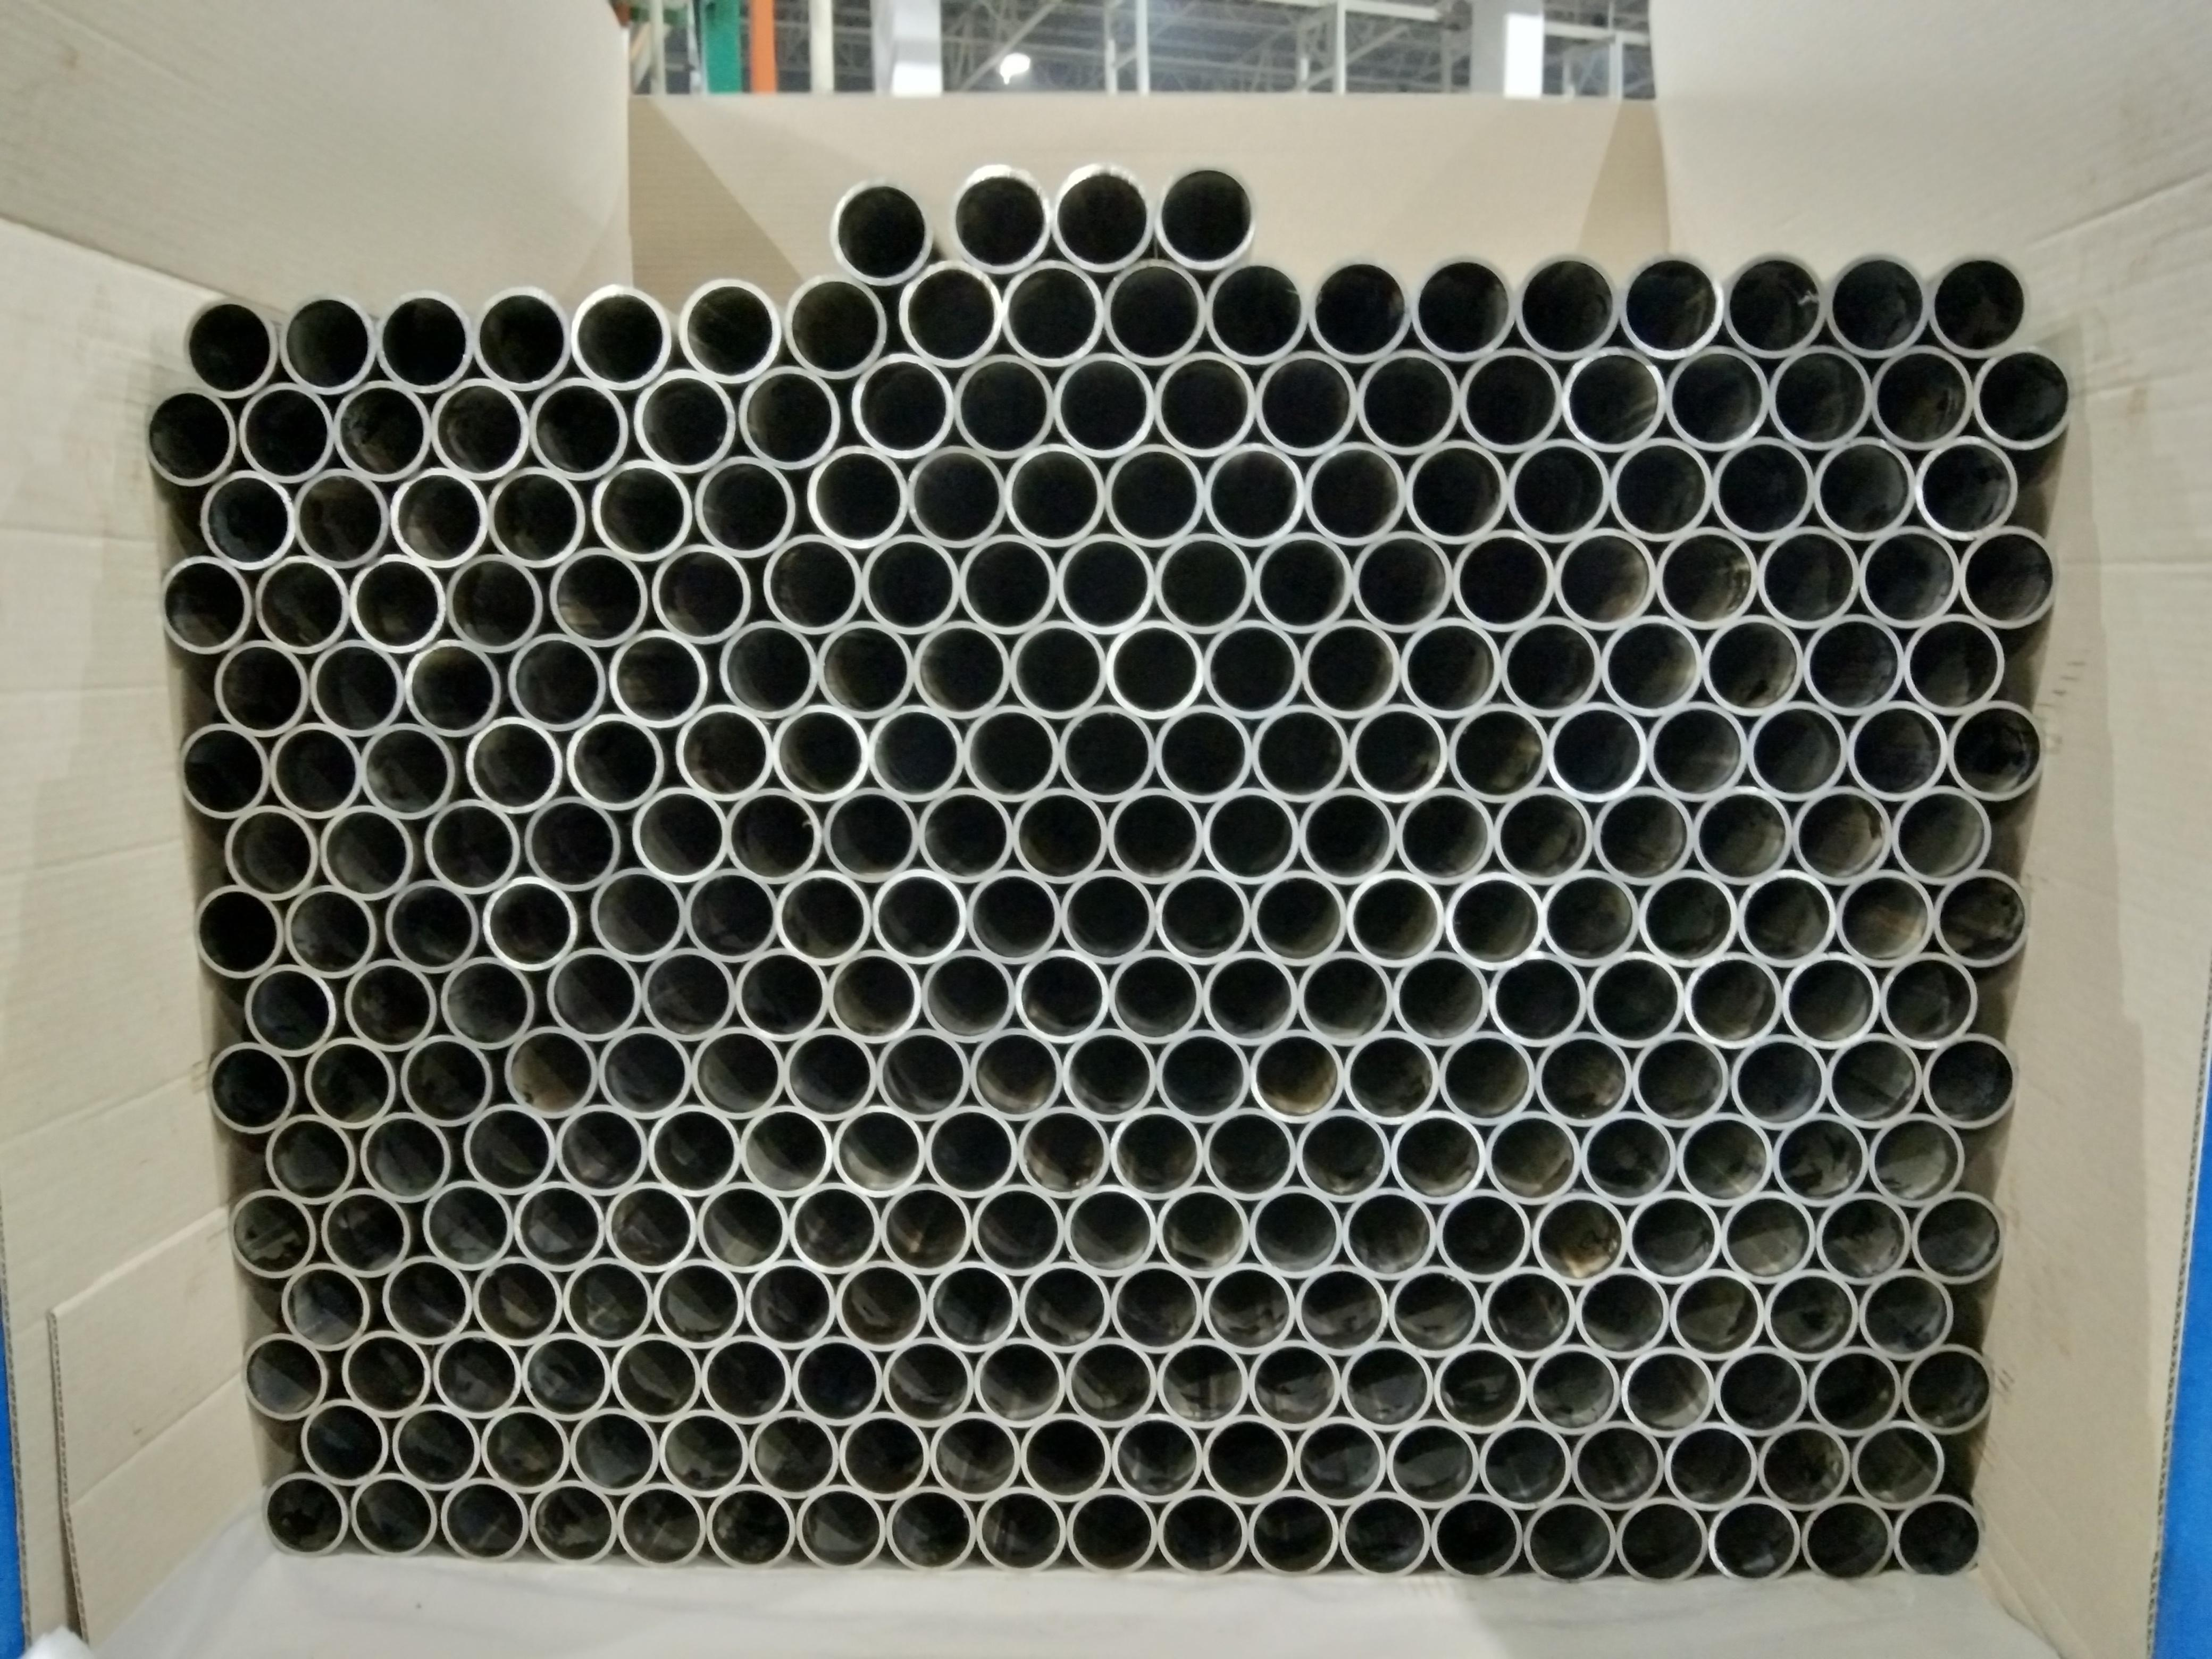pipe: (780, 270, 892, 376), (1721, 246, 1825, 359), (831, 174, 939, 282), (1925, 247, 2033, 355), (1824, 247, 1930, 357), (1514, 249, 1620, 359), (1153, 159, 1258, 270), (946, 166, 1052, 274), (1355, 347, 1461, 455), (1050, 162, 1155, 272), (1618, 247, 1723, 357), (1411, 251, 1515, 361), (1562, 343, 1667, 453), (1306, 254, 1413, 361), (1204, 254, 1308, 362), (895, 261, 1003, 366), (1869, 342, 1973, 450), (1458, 345, 1562, 453), (1254, 347, 1359, 455), (1103, 254, 1205, 364), (1001, 256, 1104, 366), (1857, 523, 1961, 629), (1655, 525, 1759, 631), (678, 277, 784, 382), (850, 354, 956, 458), (1811, 434, 1916, 540), (1665, 343, 1768, 451), (953, 350, 1055, 458), (737, 364, 845, 467), (1350, 528, 1454, 633), (1972, 343, 2076, 448), (634, 368, 738, 472), (1710, 436, 1815, 540), (1608, 436, 1712, 540), (805, 444, 909, 549), (1554, 525, 1656, 631), (1453, 526, 1555, 633), (1507, 436, 1609, 542), (1406, 437, 1508, 544), (1303, 439, 1406, 545), (1153, 349, 1254, 457), (1916, 432, 2017, 540), (691, 455, 799, 556), (1757, 525, 1860, 629), (1500, 613, 1602, 718), (571, 284, 676, 387), (528, 375, 631, 479), (484, 464, 589, 566), (472, 284, 573, 390), (1768, 343, 1869, 450), (1054, 350, 1155, 457), (1204, 441, 1305, 547), (1702, 612, 1804, 714), (1601, 613, 1703, 716), (1646, 699, 1749, 802), (590, 458, 693, 561), (1153, 530, 1254, 634), (547, 545, 651, 647), (1902, 612, 2003, 716), (1400, 615, 1501, 720), (1104, 443, 1205, 547), (651, 544, 758, 643), (1005, 441, 1104, 547), (907, 443, 1007, 549), (1252, 530, 1353, 633), (860, 532, 961, 634), (1803, 612, 1904, 714), (1846, 699, 1947, 802), (1747, 699, 1848, 802), (376, 288, 475, 392), (432, 375, 529, 481), (336, 375, 432, 483), (444, 551, 545, 652), (718, 619, 819, 720), (1547, 701, 1648, 802), (1447, 701, 1548, 802), (1592, 784, 1693, 885), (1691, 784, 1792, 885), (1393, 784, 1494, 885), (1735, 866, 1836, 967), (1055, 532, 1155, 634), (761, 535, 864, 634), (1301, 615, 1400, 718), (1204, 617, 1303, 720), (815, 617, 914, 720), (1104, 617, 1204, 720), (402, 636, 505, 735), (1946, 699, 2045, 802), (179, 293, 279, 396), (237, 380, 336, 483), (390, 464, 488, 568), (606, 629, 712, 725), (1008, 619, 1108, 720), (1348, 701, 1447, 802), (1251, 702, 1350, 803), (465, 714, 566, 814), (359, 720, 460, 819), (1494, 784, 1594, 885), (1791, 784, 1890, 885), (1298, 784, 1397, 885), (1959, 525, 2057, 627), (960, 532, 1057, 634), (348, 551, 446, 653), (253, 552, 350, 655), (913, 617, 1010, 720), (507, 633, 610, 730), (772, 701, 869, 803), (585, 866, 688, 964), (564, 713, 669, 809), (294, 465, 390, 570), (1890, 784, 1989, 884), (820, 784, 920, 884), (1639, 868, 1738, 967), (1782, 950, 1881, 1049), (1155, 702, 1252, 803), (674, 704, 775, 802), (1059, 702, 1157, 803), (421, 798, 523, 896), (1444, 870, 1545, 967), (279, 291, 376, 392), (523, 795, 625, 890), (1012, 784, 1109, 884), (916, 784, 1014, 884), (1202, 786, 1299, 885), (1249, 868, 1348, 965), (1541, 868, 1639, 967), (1836, 868, 1933, 967), (1346, 868, 1444, 967), (1585, 950, 1684, 1047), (1684, 950, 1782, 1049), (1437, 1028, 1536, 1126), (1630, 1030, 1730, 1127), (1728, 1032, 1827, 1129), (214, 638, 310, 739), (867, 702, 963, 803), (629, 786, 730, 882), (143, 383, 239, 484), (725, 786, 822, 884), (920, 946, 1017, 1044), (826, 946, 923, 1044), (1202, 948, 1299, 1046), (1296, 948, 1393, 1046), (1879, 950, 1977, 1047), (1825, 1030, 1923, 1127), (1484, 1108, 1581, 1206), (1580, 1108, 1677, 1206), (1771, 1110, 1869, 1208), (158, 554, 254, 653), (963, 702, 1059, 802), (319, 803, 418, 899), (1061, 866, 1157, 965), (1392, 950, 1491, 1046), (200, 469, 296, 568), (310, 636, 404, 737), (481, 875, 582, 969), (1108, 786, 1204, 884), (871, 866, 967, 964), (965, 868, 1061, 965), (1155, 868, 1251, 965), (282, 882, 380, 978), (1489, 950, 1587, 1046), (597, 1023, 693, 1121), (1061, 1026, 1158, 1122), (1534, 1030, 1632, 1126), (1294, 1107, 1392, 1202), (1390, 1107, 1486, 1204), (1676, 1110, 1773, 1206), (1529, 1188, 1627, 1284), (268, 720, 362, 819), (777, 866, 871, 965), (543, 946, 643, 1040), (502, 1026, 601, 1121), (301, 1035, 401, 1129), (381, 880, 482, 972), (439, 955, 540, 1047), (1014, 946, 1109, 1042), (1108, 948, 1204, 1044), (968, 1025, 1064, 1121), (1155, 1026, 1251, 1122), (1249, 1026, 1345, 1122), (1343, 1028, 1439, 1124), (1921, 1032, 2017, 1127), (1062, 1182, 1158, 1277), (1247, 1183, 1343, 1279), (1341, 1185, 1437, 1281), (1435, 1185, 1531, 1281), (1625, 1188, 1721, 1284), (1719, 1188, 1815, 1284), (1911, 1194, 2006, 1290), (1296, 1262, 1392, 1358), (1932, 868, 2026, 965), (691, 1023, 786, 1121), (226, 802, 319, 901), (341, 958, 441, 1051), (399, 1033, 498, 1126), (319, 1185, 418, 1277), (685, 866, 779, 962), (641, 946, 737, 1040), (735, 946, 829, 1042), (876, 1025, 970, 1121), (831, 1103, 927, 1197), (1202, 1105, 1296, 1201), (1869, 1110, 1963, 1206), (787, 1178, 881, 1274), (1815, 1190, 1911, 1284), (1575, 1265, 1670, 1359), (1763, 1267, 1858, 1361), (1526, 1342, 1622, 1436), (1618, 1342, 1714, 1436), (242, 962, 340, 1054), (784, 1025, 876, 1122), (460, 1103, 557, 1195), (359, 1110, 456, 1202), (738, 1103, 833, 1197), (925, 1103, 1019, 1197), (1109, 1105, 1204, 1199), (512, 1178, 606, 1272), (604, 1178, 698, 1272), (880, 1180, 974, 1274), (970, 1182, 1064, 1276), (1109, 1258, 1204, 1352), (1202, 1260, 1296, 1354), (1669, 1267, 1763, 1361), (972, 1333, 1066, 1427), (1155, 1335, 1249, 1429), (1247, 1337, 1341, 1431), (1339, 1338, 1433, 1432), (1432, 1340, 1526, 1434), (1808, 1342, 1902, 1436), (1019, 1105, 1111, 1201), (697, 1178, 789, 1274), (1157, 1182, 1249, 1277), (927, 1256, 1019, 1352), (1386, 1263, 1482, 1356), (1480, 1265, 1576, 1358), (1857, 1267, 1952, 1359), (1569, 1419, 1667, 1509), (206, 1040, 300, 1133), (554, 1103, 648, 1195), (648, 1103, 742, 1195), (423, 1178, 516, 1272), (836, 1256, 928, 1351), (1019, 1258, 1111, 1352), (1714, 1344, 1808, 1436), (1111, 1410, 1204, 1504), (1202, 1412, 1294, 1506), (1292, 1413, 1386, 1506), (1386, 1417, 1480, 1509), (1479, 1417, 1571, 1511), (1663, 1419, 1757, 1511), (380, 1253, 472, 1345), (472, 1253, 564, 1345), (563, 1255, 655, 1347), (744, 1256, 836, 1349), (700, 1331, 792, 1424), (791, 1333, 883, 1425), (883, 1333, 975, 1425), (1064, 1335, 1157, 1427), (1900, 1342, 1993, 1434), (838, 1408, 930, 1500), (928, 1408, 1021, 1500), (1019, 1410, 1111, 1502), (1757, 1419, 1850, 1511), (193, 884, 284, 978), (653, 1255, 744, 1349), (1850, 1419, 1944, 1509), (1615, 1493, 1709, 1584), (179, 721, 268, 817), (658, 1406, 749, 1499), (747, 1406, 838, 1499), (1801, 1493, 1893, 1584), (265, 1114, 359, 1202), (280, 1260, 374, 1349), (1430, 1492, 1524, 1581), (521, 1330, 611, 1420), (705, 1480, 796, 1570), (1339, 1488, 1430, 1579), (1524, 1493, 1615, 1584), (611, 1330, 700, 1422), (885, 1483, 977, 1572), (1066, 1485, 1158, 1574), (230, 1185, 317, 1279), (338, 1330, 432, 1417), (1155, 1488, 1249, 1575), (432, 1330, 523, 1419), (481, 1405, 571, 1493), (570, 1405, 658, 1495), (348, 1471, 439, 1560), (439, 1474, 529, 1563), (528, 1476, 617, 1567), (617, 1478, 705, 1568), (1249, 1486, 1338, 1577), (1893, 1492, 1984, 1581), (1709, 1493, 1799, 1582), (240, 1331, 333, 1419), (975, 1486, 1068, 1574), (796, 1481, 885, 1570), (390, 1403, 481, 1490), (261, 1469, 348, 1560), (300, 1399, 388, 1486)
